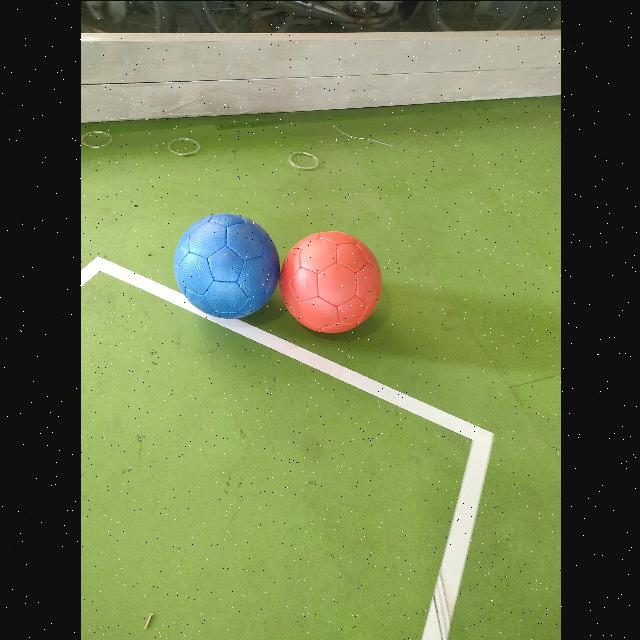B: (174, 212, 278, 316)
R: (280, 230, 380, 332)
